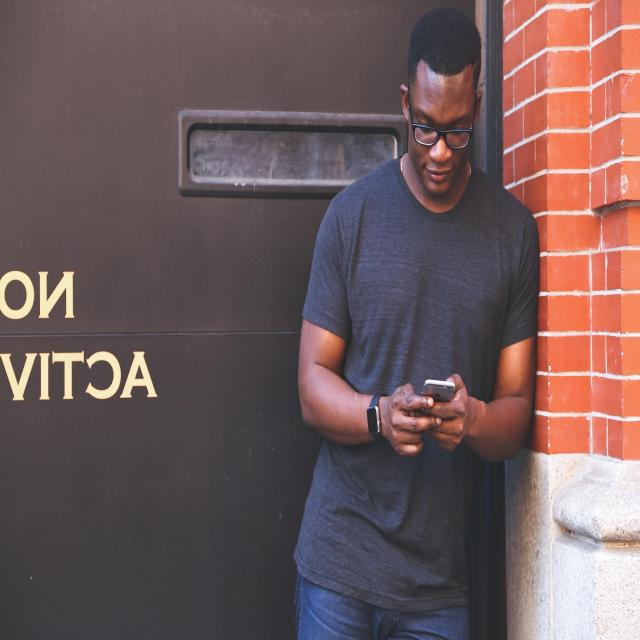Mobile: (414, 364, 457, 426)
